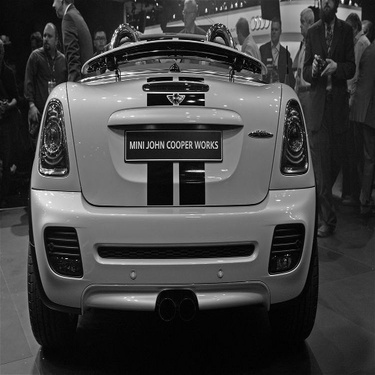car: (10, 11, 326, 352)
